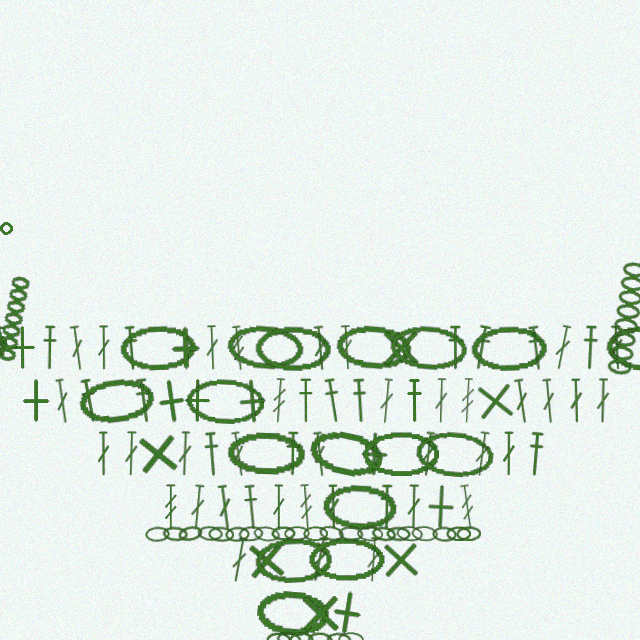chain: (305, 424, 388, 484), (76, 374, 158, 428), (414, 428, 496, 480), (225, 322, 306, 373), (334, 322, 414, 373), (388, 323, 468, 373), (254, 587, 332, 638), (185, 377, 265, 425), (321, 482, 399, 531), (254, 536, 332, 584), (226, 430, 305, 477), (119, 324, 196, 371), (254, 325, 331, 371), (470, 325, 547, 371), (308, 537, 386, 582), (362, 431, 439, 476), (604, 323, 640, 373), (0, 321, 10, 375), (177, 524, 204, 543), (318, 524, 345, 543), (253, 525, 280, 543), (371, 525, 397, 543), (396, 525, 423, 542), (411, 525, 438, 542), (197, 525, 223, 542), (238, 525, 264, 542), (338, 525, 364, 542), (162, 526, 188, 542), (208, 526, 234, 542), (357, 526, 383, 542), (145, 526, 170, 542), (225, 526, 250, 542), (386, 526, 411, 542), (432, 526, 457, 542), (284, 526, 310, 541), (271, 526, 296, 541), (303, 526, 328, 541), (446, 526, 471, 541), (456, 526, 481, 541), (276, 631, 302, 640), (307, 631, 333, 640), (326, 632, 352, 640), (338, 632, 364, 640), (266, 632, 291, 640), (289, 632, 314, 640)
double: (308, 536, 331, 583), (551, 324, 574, 371), (228, 537, 250, 583), (228, 431, 249, 477), (52, 378, 73, 424), (511, 378, 532, 424), (215, 484, 235, 530), (418, 431, 438, 477), (472, 431, 492, 477), (67, 325, 87, 371), (188, 484, 207, 530), (310, 431, 329, 477), (377, 378, 396, 424), (539, 378, 558, 424), (311, 325, 329, 371), (365, 537, 382, 582), (338, 325, 355, 370), (608, 325, 625, 370), (325, 484, 341, 529), (123, 431, 139, 476), (177, 431, 193, 476), (433, 378, 449, 423), (568, 378, 584, 423), (595, 378, 611, 423), (204, 325, 220, 370), (271, 484, 286, 529), (406, 484, 421, 529), (96, 431, 111, 476), (501, 431, 516, 476), (96, 325, 111, 370), (0, 325, 7, 371)
enseble_chain: (604, 260, 640, 379), (0, 274, 34, 366)
half_double: (77, 377, 102, 424), (469, 324, 494, 371), (132, 377, 155, 424), (321, 377, 344, 424), (525, 325, 547, 371), (241, 484, 262, 530), (525, 431, 546, 477), (202, 431, 222, 477), (121, 325, 141, 371), (580, 325, 600, 370), (350, 378, 369, 423), (405, 378, 423, 423), (446, 325, 464, 370), (378, 484, 395, 529), (284, 431, 301, 476), (297, 378, 314, 423), (41, 325, 58, 370)
noise: (0, 220, 14, 236)
single: (321, 587, 372, 638), (146, 376, 196, 426), (470, 376, 520, 426), (133, 429, 182, 478), (242, 536, 290, 584), (228, 377, 276, 425), (377, 536, 424, 583), (417, 483, 464, 530), (297, 590, 343, 636), (351, 431, 397, 477), (162, 325, 208, 371), (13, 378, 58, 423), (175, 378, 220, 423), (0, 325, 45, 370), (378, 325, 423, 370)
treble: (457, 484, 478, 530), (229, 325, 248, 371), (297, 484, 315, 529), (270, 378, 288, 423), (459, 378, 476, 423), (163, 484, 178, 529)
